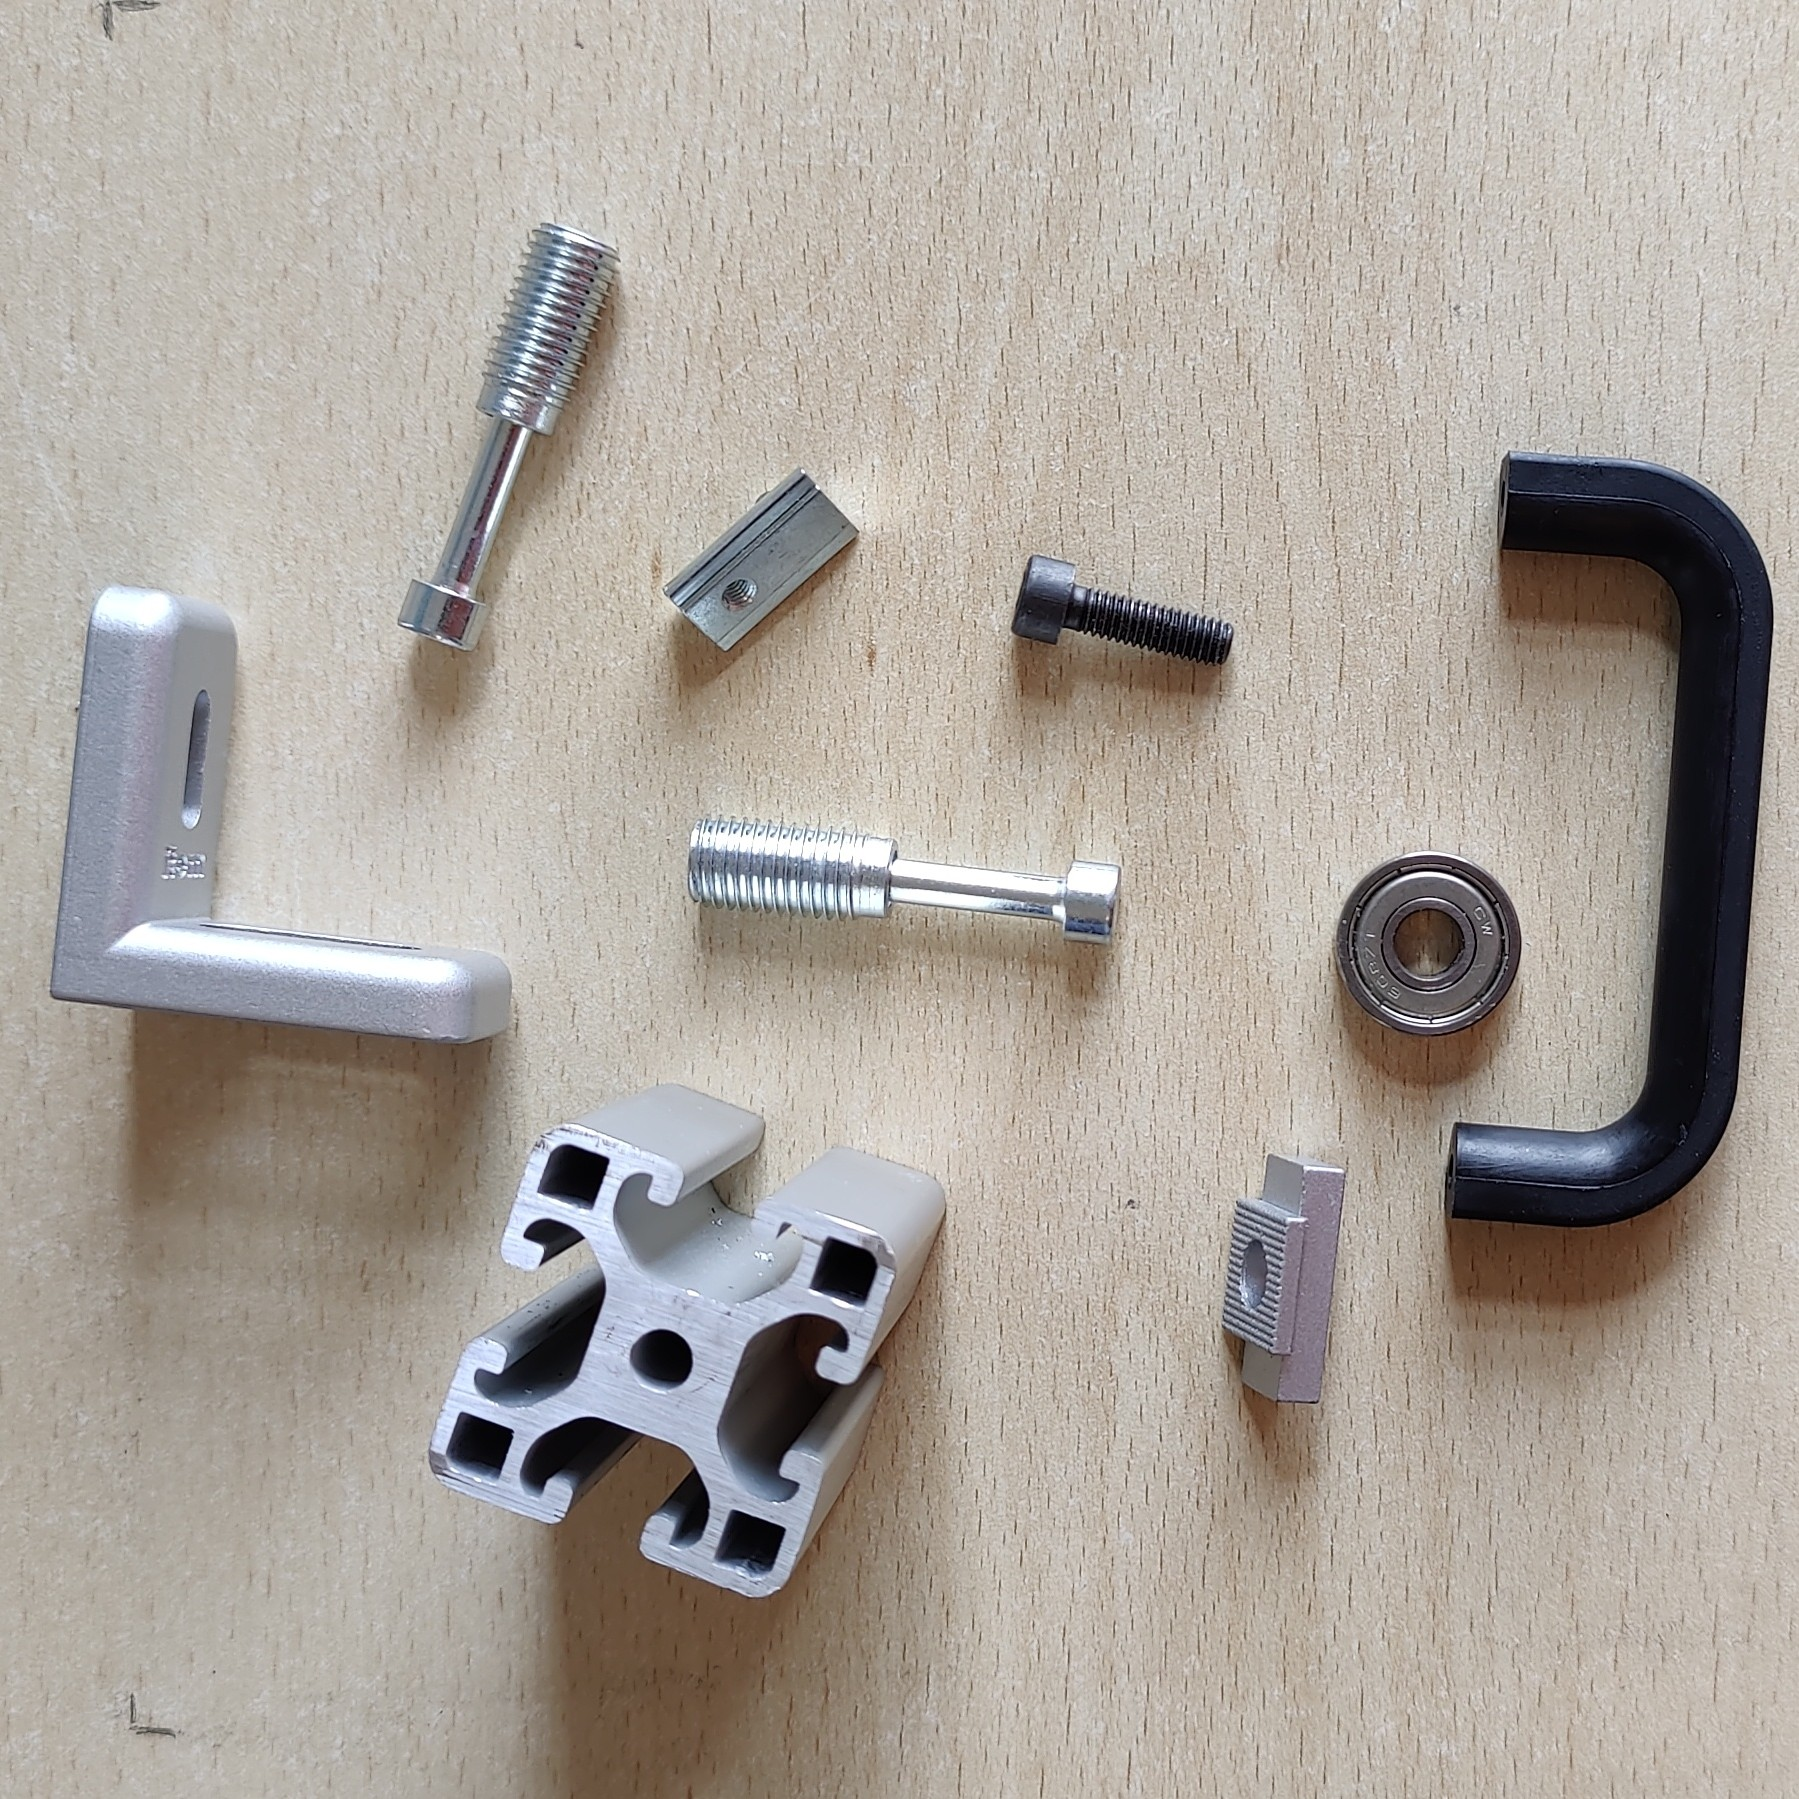Aluminium Extension: (428, 1081, 946, 1601)
Ball Bearing: (1334, 848, 1524, 1038)
Multiwinkel: (46, 583, 514, 1048)
Pull Handle: (1442, 448, 1778, 1231)
Shoulder Socket Head Cap Screw: (397, 221, 623, 656), (685, 811, 1120, 952)
Socket Head Cap Screw: (1010, 554, 1236, 667)
T Nut Square: (1217, 1148, 1349, 1405)
T Spring Nut: (661, 468, 862, 654)
